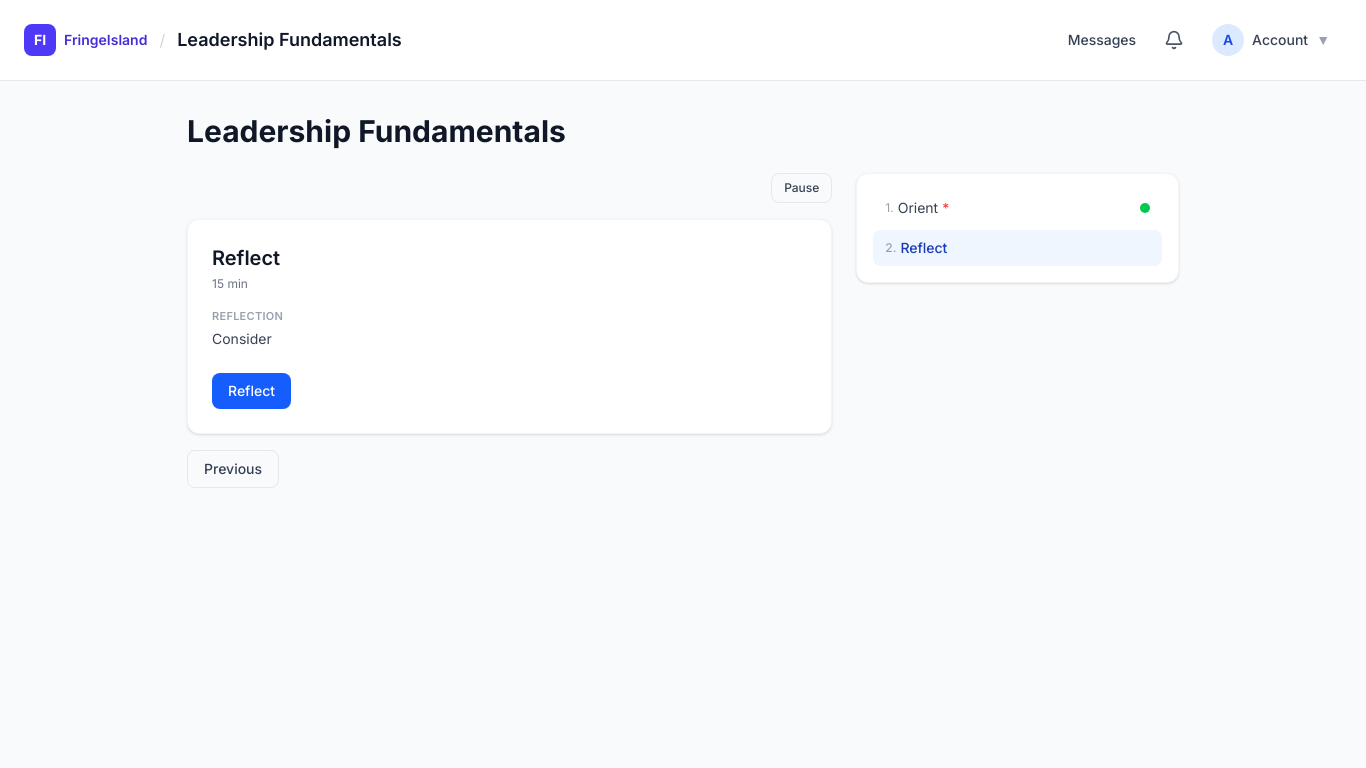
Test case: FEAT-H021 STORY-5 — review + completion ride the player budgets (ADR-U043) › the completion moment paints from the completing save response — no player-state read of its own (B5)
Step 1. Click the button with test id "step-complete" → (252,390), box [212, 372, 291, 408]
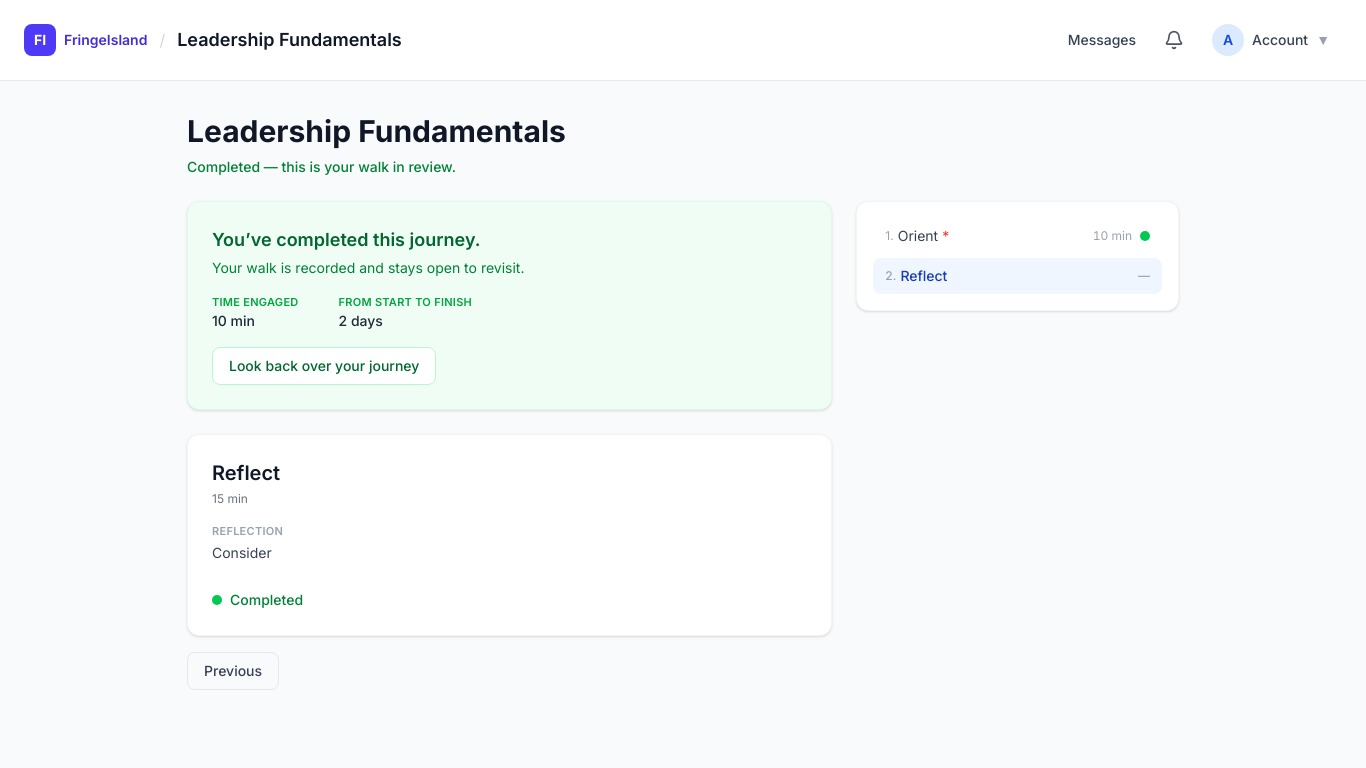
Expected: the element with test id "journey-completion-panel" is shown, [187, 201, 832, 410]
